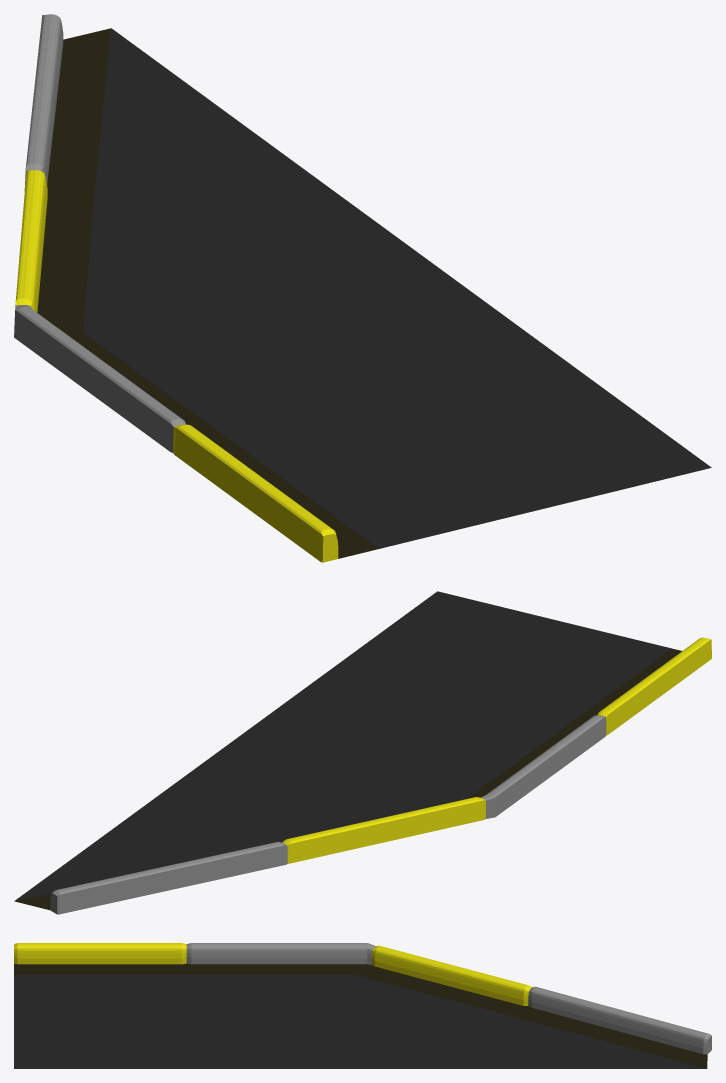
The model's file is Black.Yellow.Curb.Extension.001.fbx.
The picture shows the model from 3 angles, top to bottom: view 1: azimuth 30°, elevation 25°; view 2: azimuth 150°, elevation 25°; view 3: azimuth 270°, elevation 25°; orthographic projection. The views are drawn at different scales.
Visible parts, largest first — view 1: Black.Yellow.Curb.Extention.002; view 2: Black.Yellow.Curb.Extention.002; view 3: Black.Yellow.Curb.Extention.002.
Boxes of the visible parts, x1,y1,x2,y2 form: Black.Yellow.Curb.Extention.002: (14, 14, 711, 562); Black.Yellow.Curb.Extention.002: (14, 591, 711, 914); Black.Yellow.Curb.Extention.002: (14, 943, 711, 1068).
Size of the model in its own units: 606 by 226 by 16.27.
